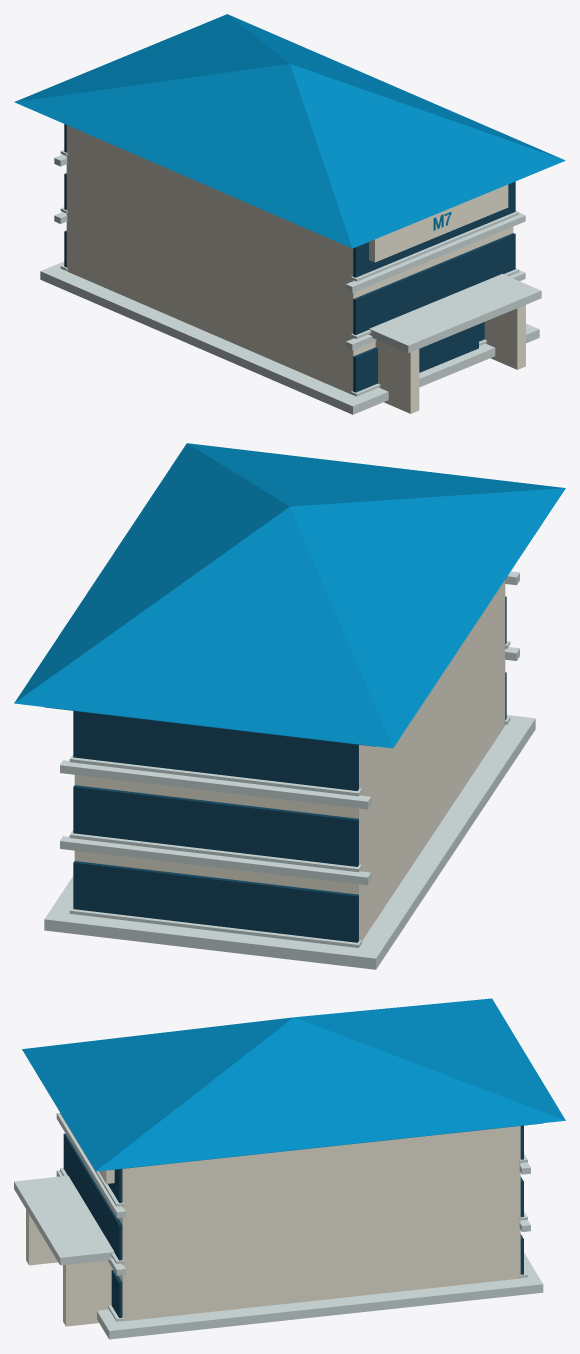
Rendered from mahad-m7.glb.
3 views of the same model, one above another, from view 1: azimuth 30°, elevation 25°; view 2: azimuth 150°, elevation 25°; view 3: azimuth 270°, elevation 25° (orthographic). The views are drawn at different scales.
Visible parts, largest first — view 1: Mahad_M7_blue, Mahad_M7_ivory, Mahad_M7_trim, Mahad_M7_glass; view 2: Mahad_M7_blue, Mahad_M7_glass, Mahad_M7_ivory, Mahad_M7_trim; view 3: Mahad_M7_ivory, Mahad_M7_blue, Mahad_M7_trim, Mahad_M7_glass.
Boxes of the visible parts, box(x1,y1,x2,y2) form: Mahad_M7_blue: box(14, 14, 565, 248); Mahad_M7_ivory: box(66, 125, 525, 413); Mahad_M7_trim: box(40, 150, 541, 414); Mahad_M7_glass: box(64, 124, 515, 392); Mahad_M7_blue: box(14, 443, 565, 748); Mahad_M7_glass: box(73, 596, 506, 942); Mahad_M7_ivory: box(74, 580, 505, 940); Mahad_M7_trim: box(44, 571, 535, 969); Mahad_M7_ivory: box(26, 1126, 520, 1326); Mahad_M7_blue: box(22, 998, 565, 1171); Mahad_M7_trim: box(14, 1112, 543, 1339); Mahad_M7_glass: box(63, 1125, 523, 1317).
Bounding box in the file's own units: 21.94 × 14.75 × 29.57.
